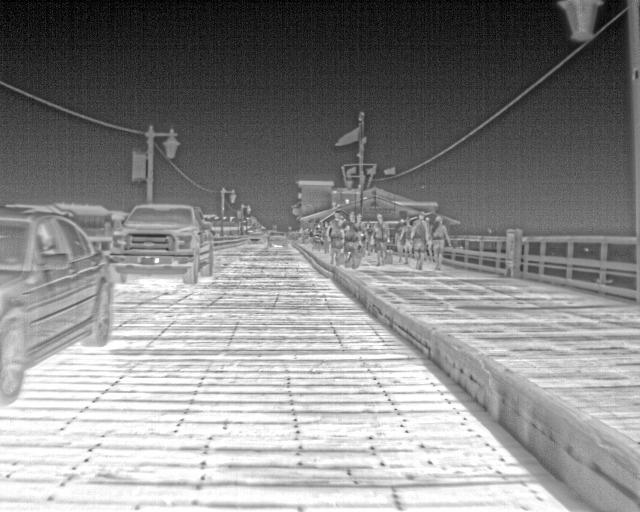bicycle: (1, 204, 113, 407), (107, 203, 215, 286), (268, 229, 290, 248), (243, 228, 265, 247)
empty: (341, 213, 364, 266), (410, 212, 431, 270), (431, 217, 451, 272), (371, 212, 391, 264), (329, 209, 347, 264), (394, 214, 410, 262), (309, 220, 325, 253)
